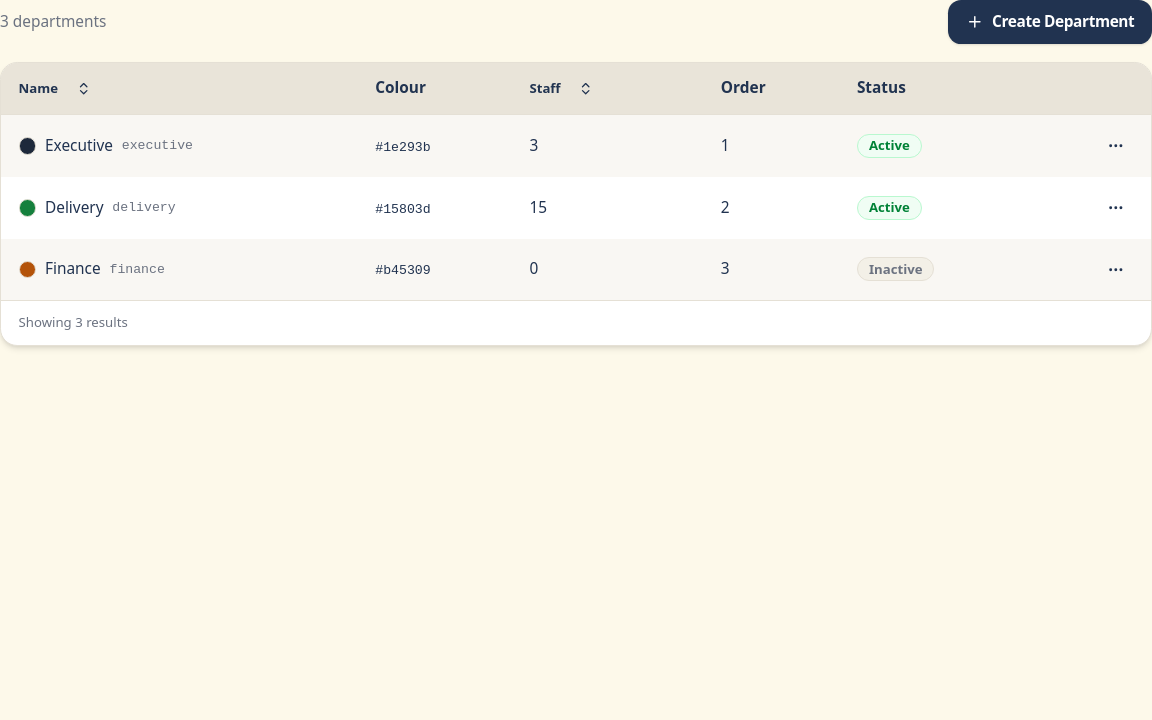
Test: DepartmentManagementContent › opens create dialog when Create Department is clicked
Click the button "Create Department".
click(1050, 22)  # box [948,0,1151,44]
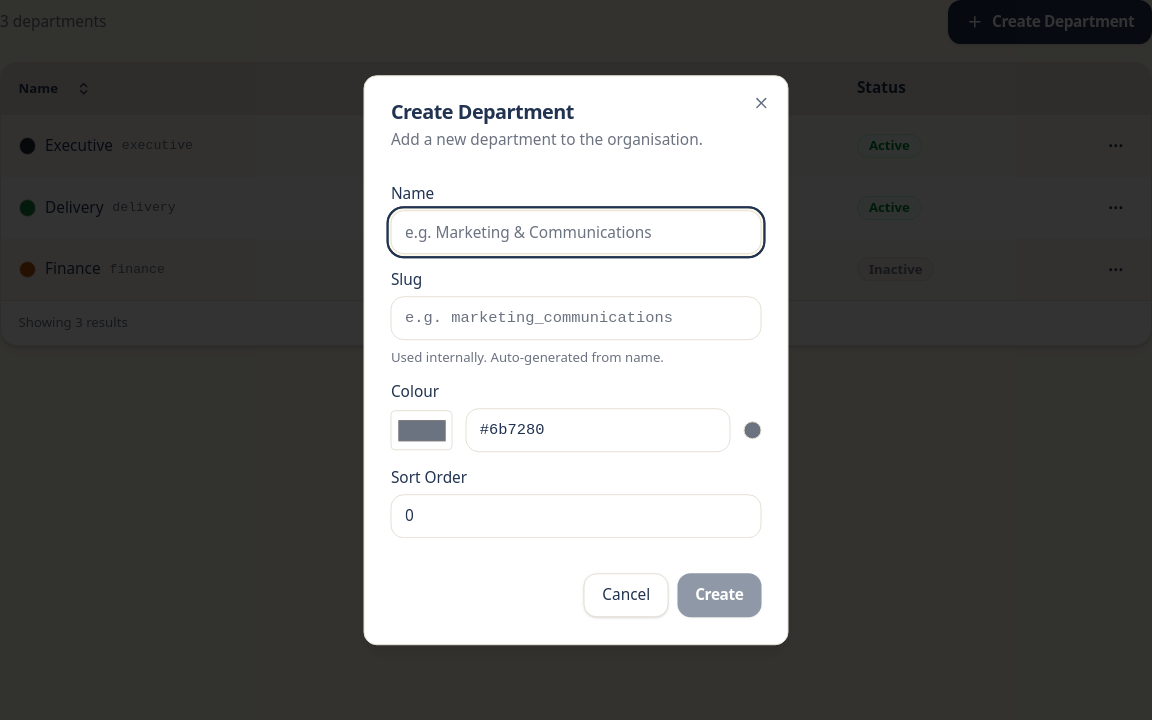
Expected: the text "Add a new department to the organisation." is shown, [391,129,703,150]
Expected: the dialog is shown, [364,75,788,645]
